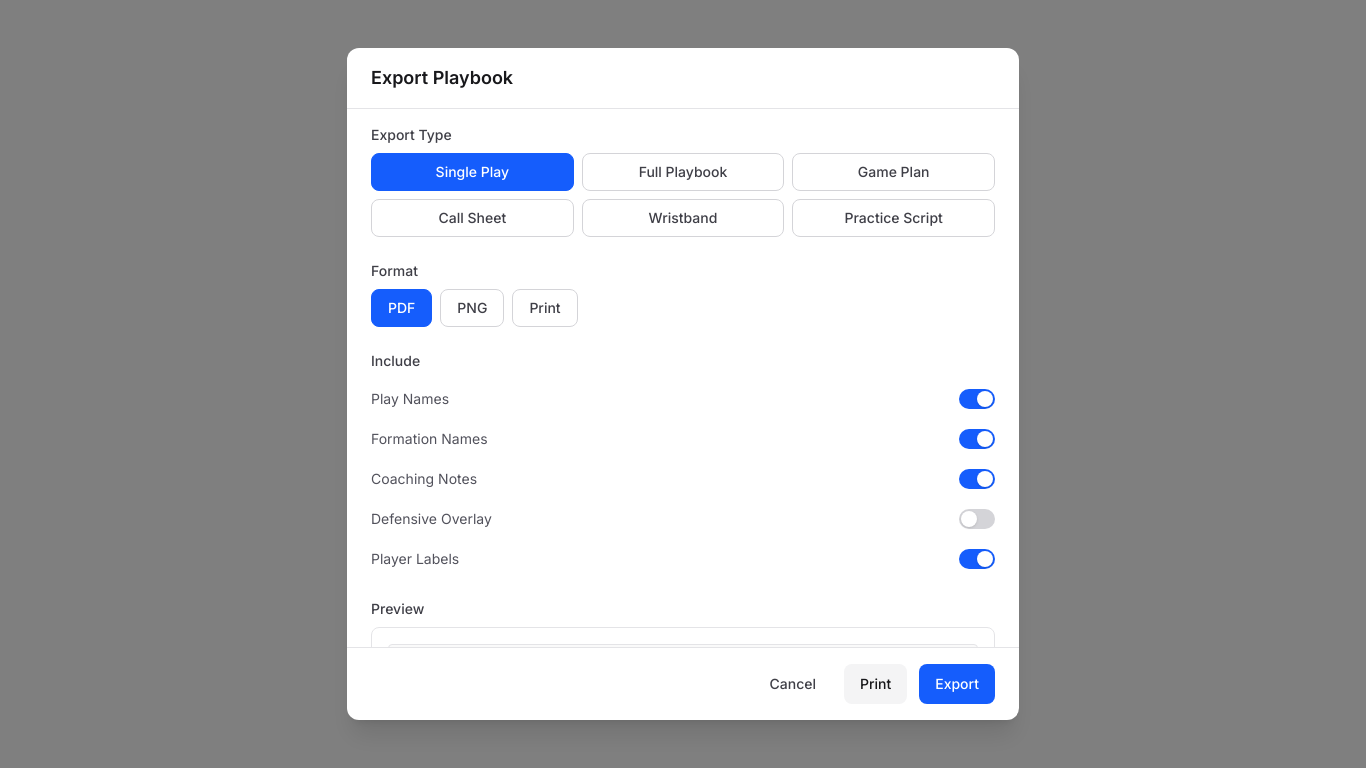
Test: ExportManager › shows layout options for call_sheet type
Click the button with test id "export-type-call_sheet": click(472, 218) [371,199,574,237]
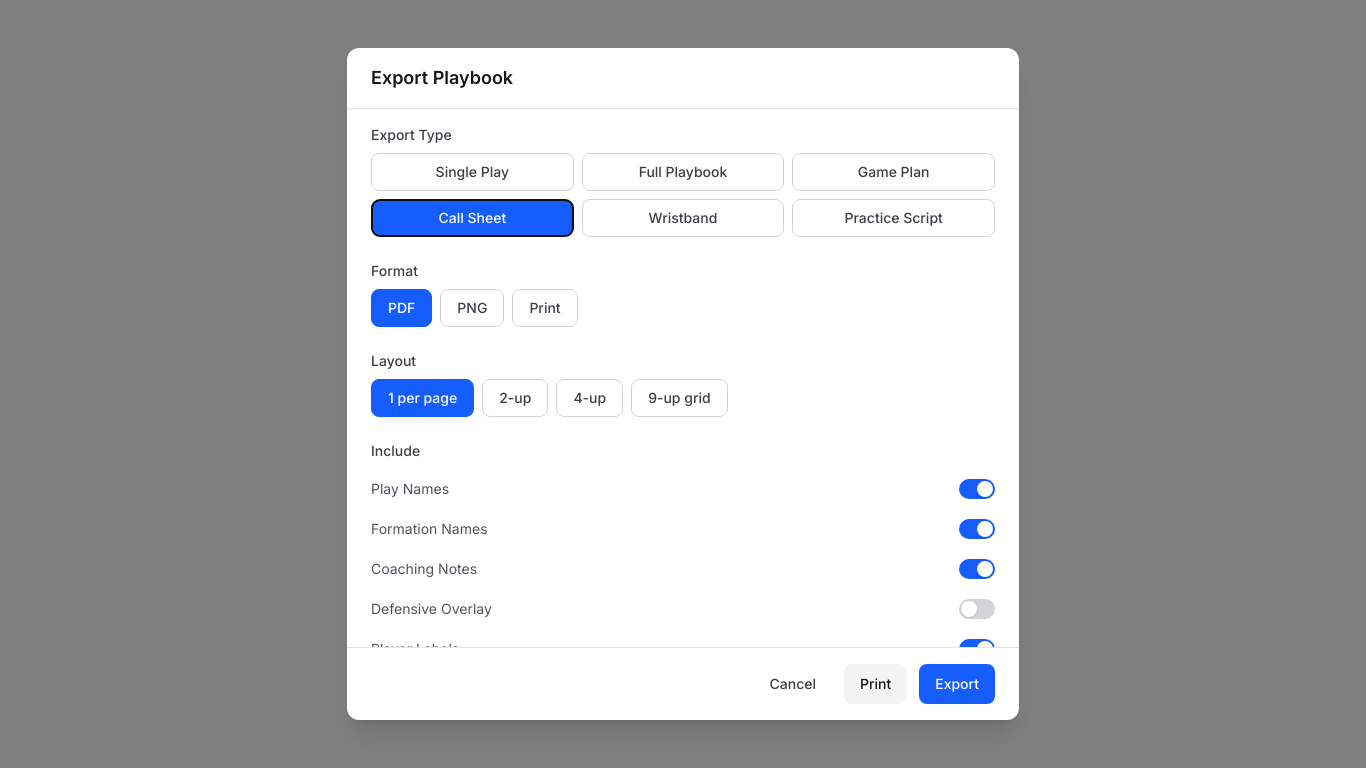
expect the element with test id "layout-section" is shown: met, box [371,352,728,417]
